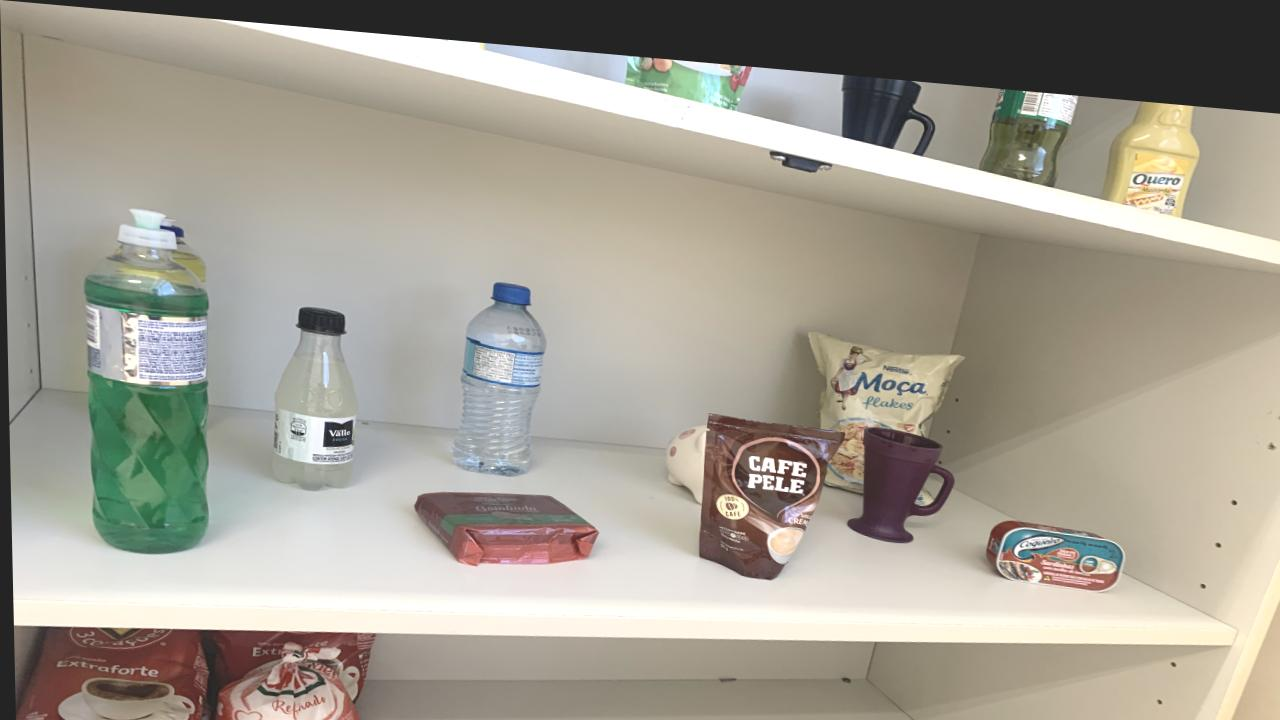Coffee-Pantry_Items: (696, 402, 841, 565)
Detergent-Cleanup_Items: (82, 206, 208, 552), (161, 216, 205, 278)
Flakes-Snacks: (807, 317, 962, 476)
Guarana-Drinks: (979, 70, 1078, 167)
Guava-Snacks: (413, 483, 596, 557)
Mustard-Pantry_Items: (1102, 80, 1198, 195)
Pig_Safe-Miscellaneous: (664, 412, 706, 489)
Soda-Drinks: (270, 301, 357, 485)
Tomato_Sauce-Pantry_Items: (625, 44, 750, 96)
Tuna_Can-Pantry_Items: (985, 501, 1123, 571)
Water_Bottle-Drinks: (452, 274, 545, 466)
